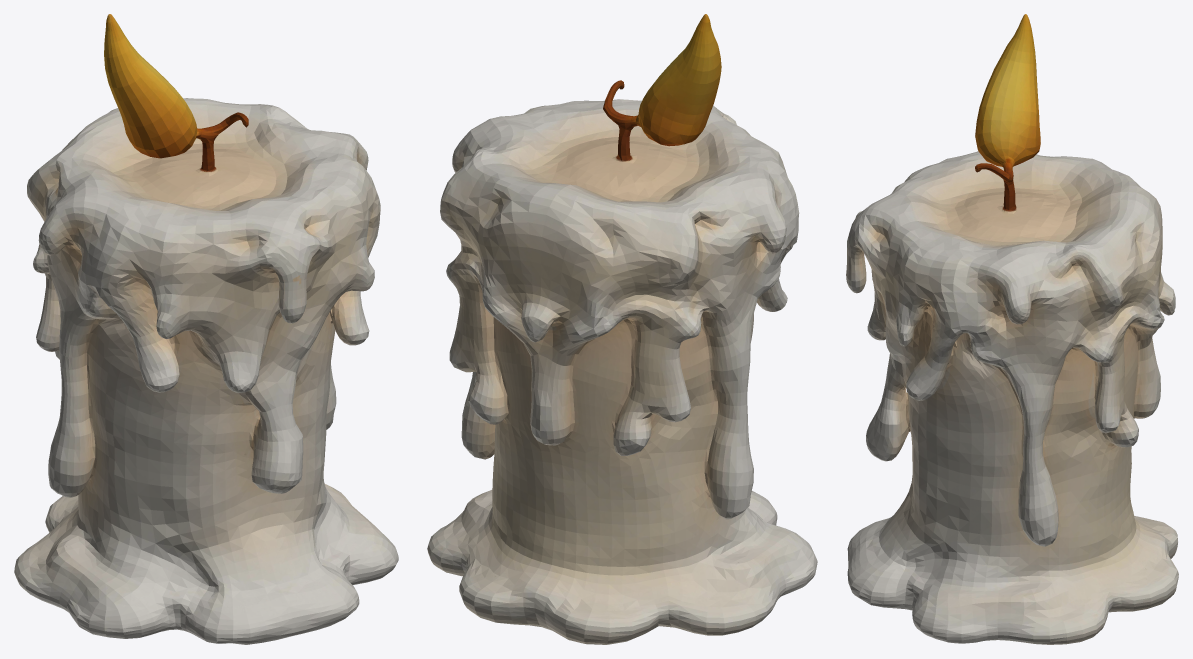
Rendered from melting candle.glb.
3 views of the same model, side by side, from view 1: azimuth 30°, elevation 25°; view 2: azimuth 150°, elevation 25°; view 3: azimuth 270°, elevation 25° (orthographic). The views are drawn at different scales.
Visible parts, largest first — view 1: tripo_node_b882c7d8-f573-48ff-bc9a-e51c863c543e; view 2: tripo_node_b882c7d8-f573-48ff-bc9a-e51c863c543e; view 3: tripo_node_b882c7d8-f573-48ff-bc9a-e51c863c543e.
Boxes of the visible parts, x1,y1,x2,y2 form: tripo_node_b882c7d8-f573-48ff-bc9a-e51c863c543e: (14,14,398,644); tripo_node_b882c7d8-f573-48ff-bc9a-e51c863c543e: (427,14,817,644); tripo_node_b882c7d8-f573-48ff-bc9a-e51c863c543e: (846,14,1178,644).
Size of the model in its own units: 0.5806 by 0.9802 by 0.5646.
Materials: 1 (1 with a texture image).
